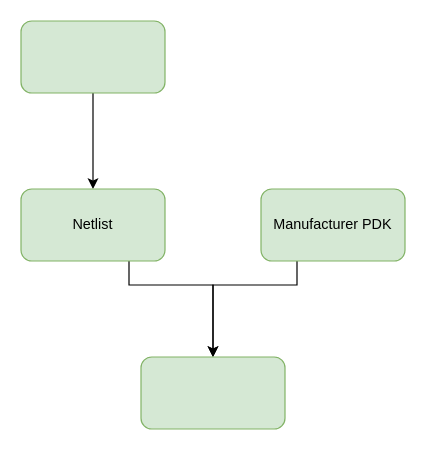
This 426x450 diagram has some shape labels left out. Each missing label, with the centre of its shape:
"GDS" belongs at (x=212, y=392).
"Verilog" belongs at (x=92, y=56).
